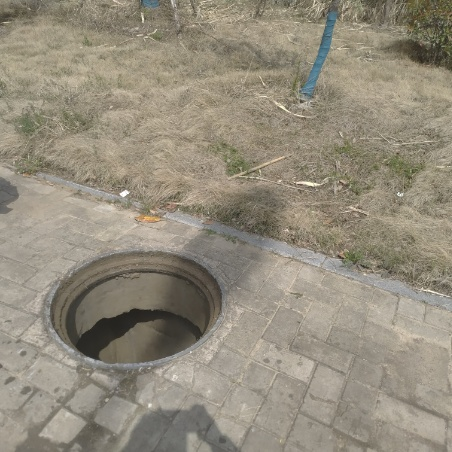lose: (42, 246, 227, 369)
